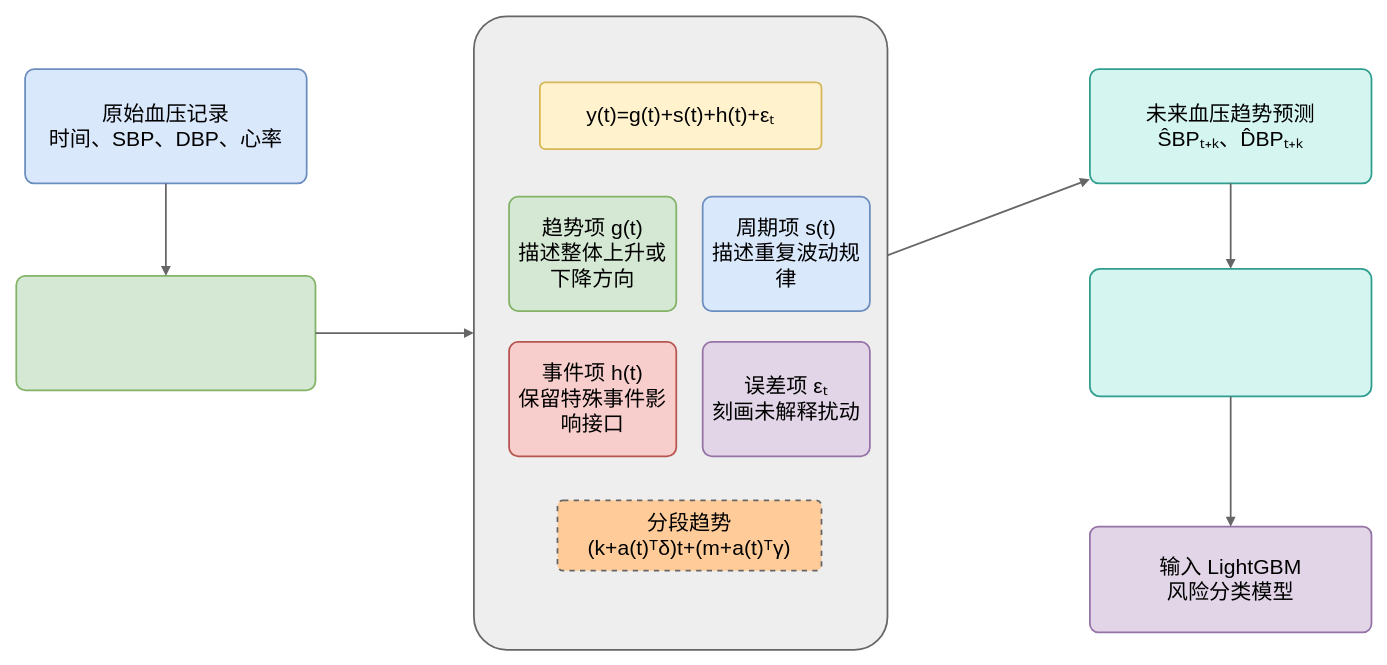
This 1387x665 diagram has some shape labels left out. Here are the shapes that lost their labels. From the top down, the centre of each, then its label:
point 165,333: 自然日聚合 日均 SBP / DBP 序列
point 1230,332: 预测期血压特征 均值、峰值、斜率、高血压天数
